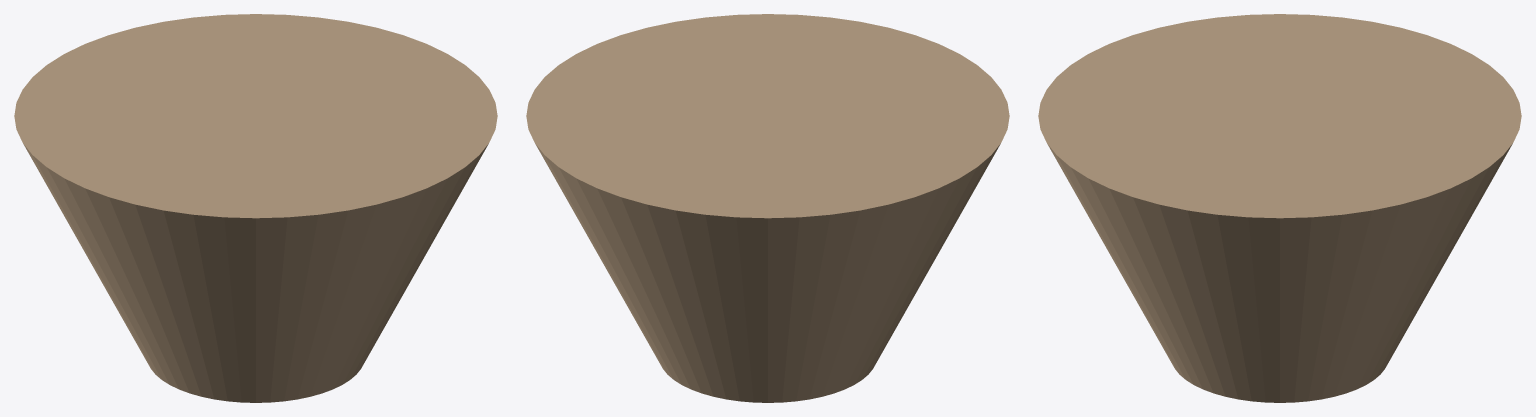
File: basket.glb
3 renders of one model, left to right at view 1: azimuth 30°, elevation 25°; view 2: azimuth 150°, elevation 25°; view 3: azimuth 270°, elevation 25°, orthographic.
Parts seen in each view (by area): view 1: Mesh_Mesh_head_geo.001_lambert2SG.001; view 2: Mesh_Mesh_head_geo.001_lambert2SG.001; view 3: Mesh_Mesh_head_geo.001_lambert2SG.001.
Boxes of the visible parts, x1,y1,x2,y2 form: Mesh_Mesh_head_geo.001_lambert2SG.001: [14, 14, 497, 402]; Mesh_Mesh_head_geo.001_lambert2SG.001: [526, 14, 1009, 402]; Mesh_Mesh_head_geo.001_lambert2SG.001: [1038, 14, 1521, 402].
Bounding box in the file's own units: 2 × 1.1 × 2.
